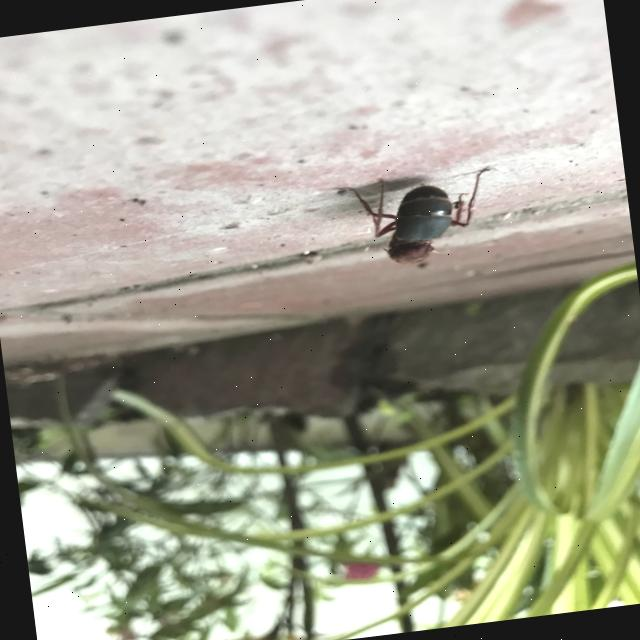Alive-Female-Dealate: (327, 163, 504, 274)
